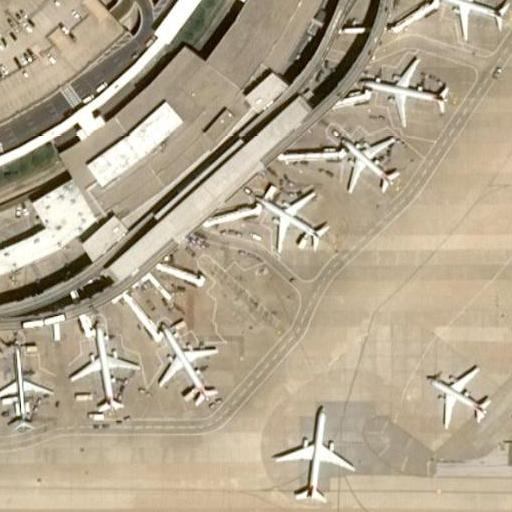Aircraft: (273, 402, 351, 501), (65, 324, 131, 412), (364, 52, 449, 117), (256, 180, 325, 253), (157, 321, 216, 401), (427, 358, 488, 434), (333, 131, 399, 197), (0, 354, 46, 424), (430, 0, 510, 29)
